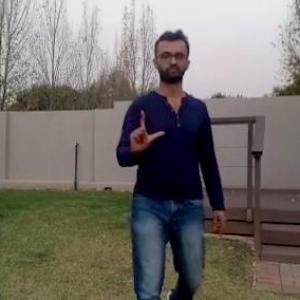land_hand: (125, 104, 167, 158)
